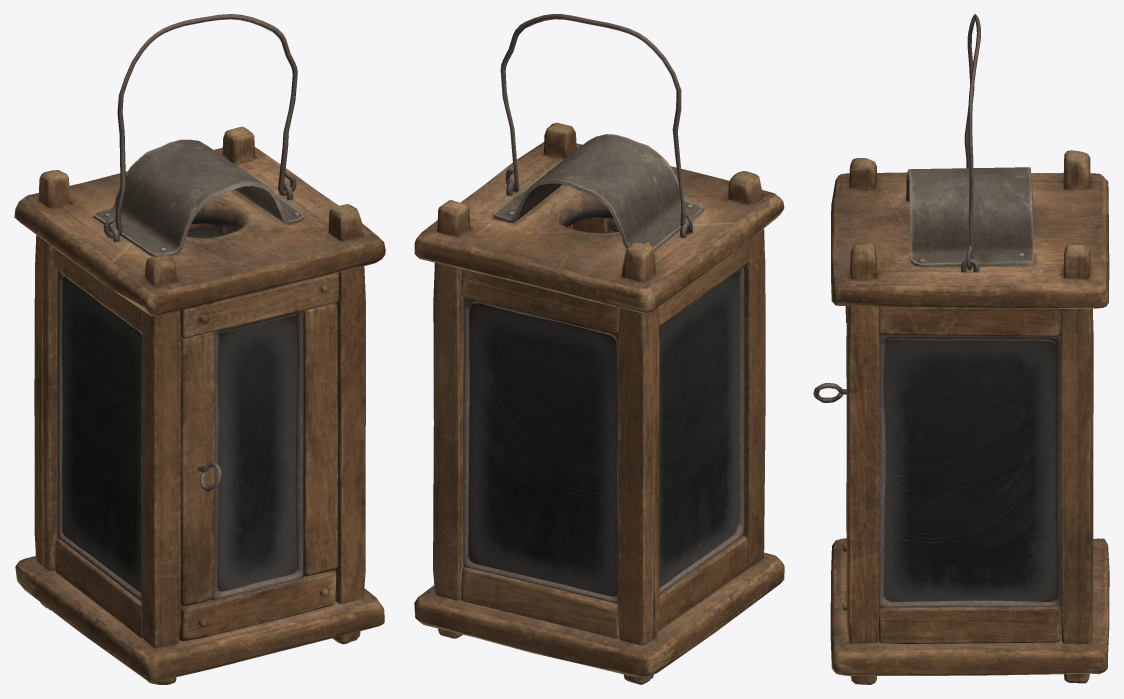
The model's file is wooden_lantern_01.glb.
3 views of the same model, side by side, from view 1: azimuth 30°, elevation 25°; view 2: azimuth 150°, elevation 25°; view 3: azimuth 270°, elevation 25° (orthographic).
Visible parts, largest first — view 1: wooden_lantern_01; view 2: wooden_lantern_01; view 3: wooden_lantern_01.
Boxes of the visible parts, box(x1,y1,x2,y2) form: wooden_lantern_01: box(14, 14, 385, 684); wooden_lantern_01: box(414, 14, 784, 684); wooden_lantern_01: box(813, 14, 1109, 684).
Bounding box in the file's own units: 0.221 × 0.5301 × 0.2347.
Materials: 2 (2 with a texture image).
